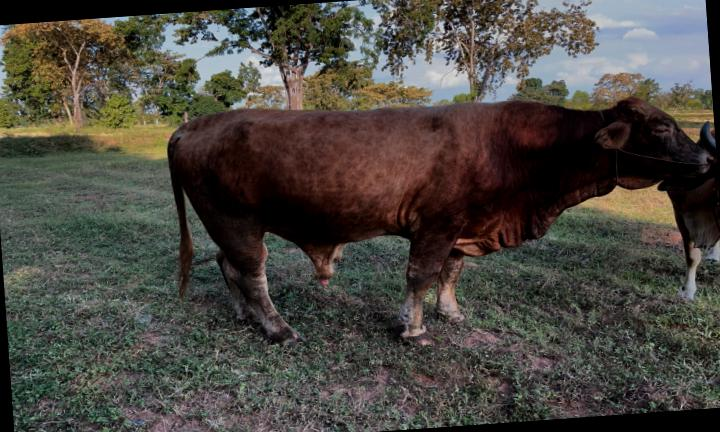Charolais: (168, 97, 712, 344)
